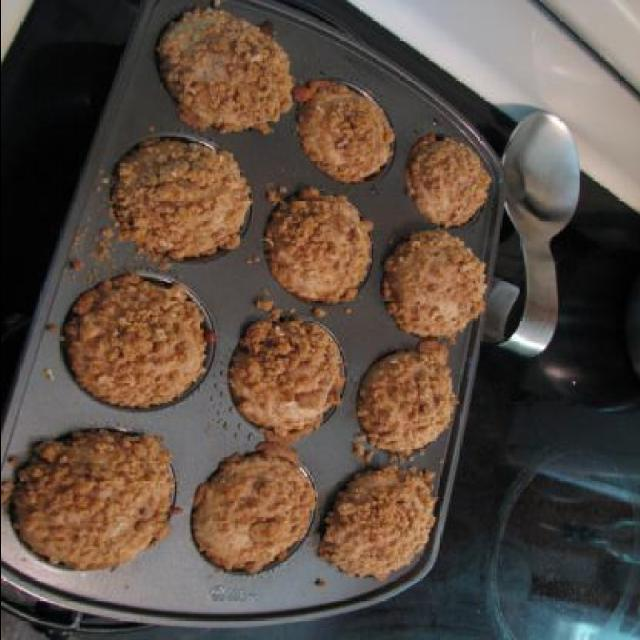Cookie: (0, 0, 497, 583)
